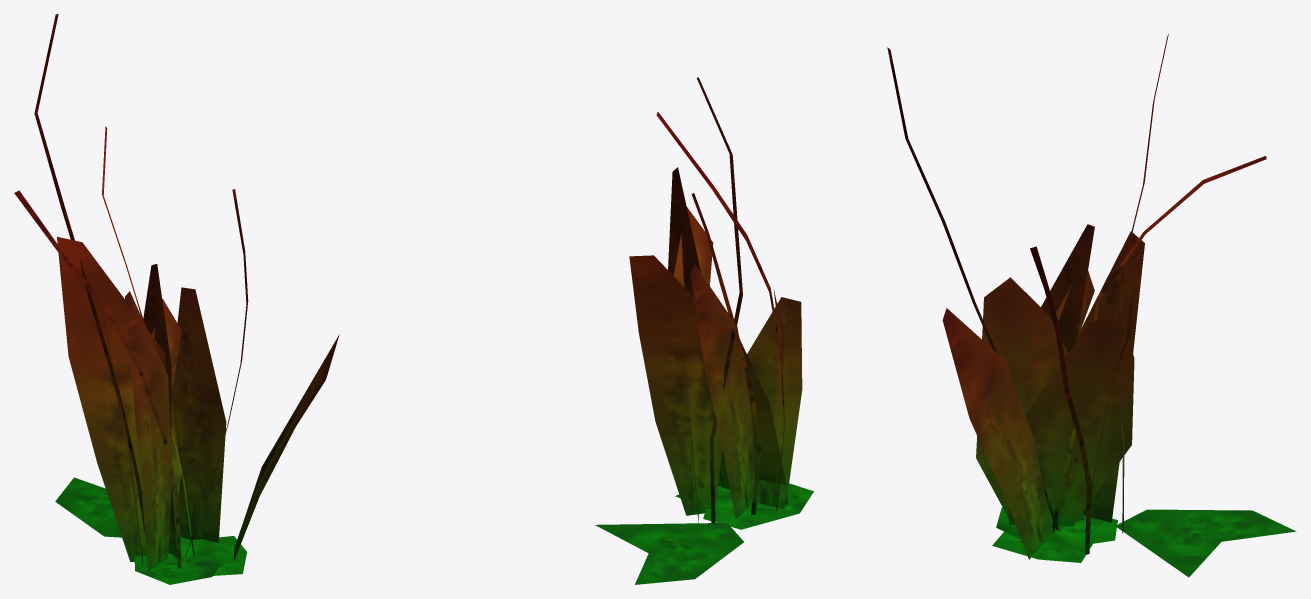
File: Thatching Grass_LOD1_Var10_uddmcgbia.glb
3 views of the same model, side by side, from view 1: azimuth 30°, elevation 25°; view 2: azimuth 150°, elevation 25°; view 3: azimuth 270°, elevation 25° (orthographic). The views are drawn at different scales.
Parts seen in each view (by area): view 1: _f1f9_Var10_LOD1; view 2: _f1f9_Var10_LOD1; view 3: _f1f9_Var10_LOD1.
Part boxes in pixels (box(x1,y1,x2,y2)): _f1f9_Var10_LOD1: box(14, 14, 339, 584); _f1f9_Var10_LOD1: box(595, 77, 813, 584); _f1f9_Var10_LOD1: box(887, 33, 1296, 577).
Bounding box in the file's own units: 0.1445 × 0.1723 × 0.1234.
1 material, 1 textured.
